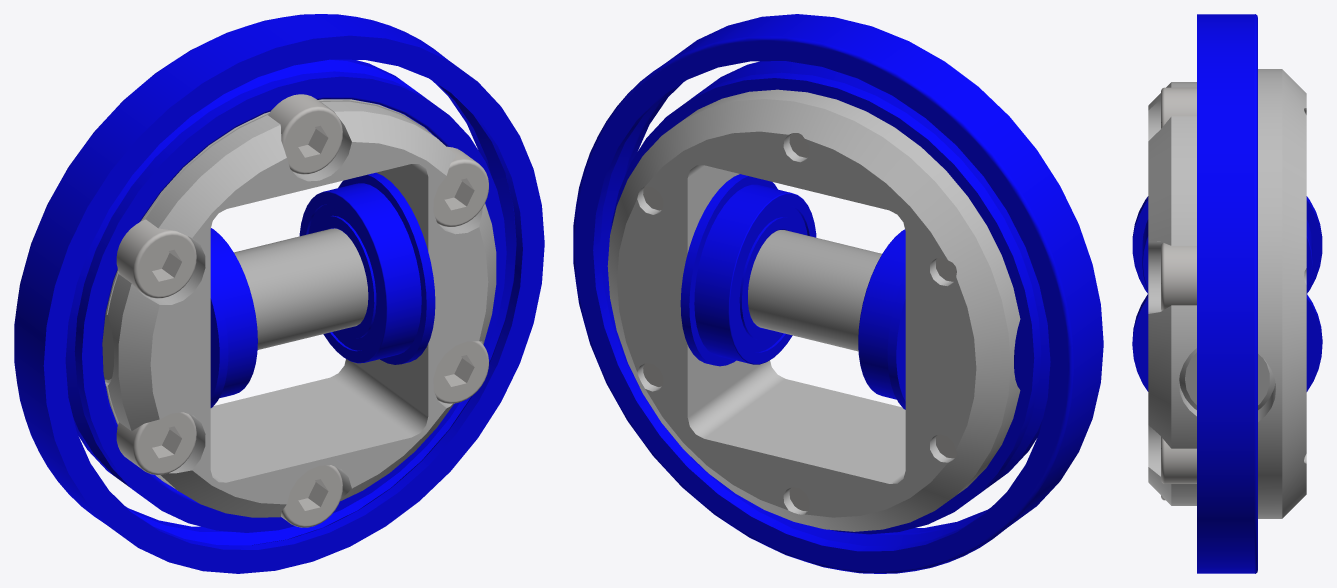
The model's file is WAIST_LINK2_mesh.dae.
The picture shows the model from 3 angles, left to right: view 1: azimuth 30°, elevation 25°; view 2: azimuth 150°, elevation 25°; view 3: azimuth 270°, elevation 25°; orthographic projection. The views are drawn at different scales.
Parts seen in each view (by area): view 1: サーフェス1_ncl1_2, サーフェス1, サーフェス1_ncl1_1, サーフェス1_ncl1_3, サーフェス1_ncl1_5, サーフェス1_ncl1_4, サーフェス1_ncl1_6, サーフェス1_ncl1_8, サーフェス1_ncl1_7, サーフェス1_ncl1_9, サーフェス1_ncl1_11, サーフェス1_ncl1_10; view 2: サーフェス1_ncl1_2, サーフェス1, サーフェス1_ncl1_1, サーフェス1_ncl1_3, サーフェス1_ncl1_5, サーフェス1_ncl1_4; view 3: サーフェス1_ncl1_2, サーフェス1, サーフェス1_ncl1_4, サーフェス1_ncl1_3, サーフェス1_ncl1_9, サーフェス1_ncl1_5, サーフェス1_ncl1_10, サーフェス1_ncl1_8.
Part boxes in pixels (x1,y1,x2,y2): サーフェス1_ncl1_2: (105, 99, 496, 517); サーフェス1: (14, 14, 544, 573); サーフェス1_ncl1_1: (65, 59, 506, 532); サーフェス1_ncl1_3: (299, 172, 435, 364); サーフェス1_ncl1_5: (102, 228, 368, 383); サーフェス1_ncl1_4: (210, 228, 257, 407); サーフェス1_ncl1_6: (116, 219, 196, 298); サーフェス1_ncl1_8: (268, 94, 342, 174); サーフェス1_ncl1_7: (116, 412, 196, 474); サーフェス1_ncl1_9: (433, 146, 488, 226); サーフェス1_ncl1_11: (281, 465, 342, 527); サーフェス1_ncl1_10: (433, 341, 488, 403); サーフェス1_ncl1_2: (607, 89, 1020, 531); サーフェス1: (573, 14, 1103, 573); サーフェス1_ncl1_1: (611, 61, 1050, 534); サーフェス1_ncl1_3: (680, 174, 816, 366); サーフェス1_ncl1_5: (748, 230, 881, 351); サーフェス1_ncl1_4: (858, 229, 905, 409); サーフェス1_ncl1_2: (1148, 69, 1306, 518); サーフェス1: (1197, 14, 1257, 573); サーフェス1_ncl1_4: (1132, 196, 1322, 293); サーフェス1_ncl1_3: (1132, 293, 1322, 391); サーフェス1_ncl1_9: (1161, 242, 1196, 310); サーフェス1_ncl1_5: (1179, 348, 1275, 409); サーフェス1_ncl1_10: (1161, 437, 1196, 483); サーフェス1_ncl1_8: (1161, 87, 1196, 128).
Bounding box in the file's own units: 0.046 × 0.0156 × 0.046.
